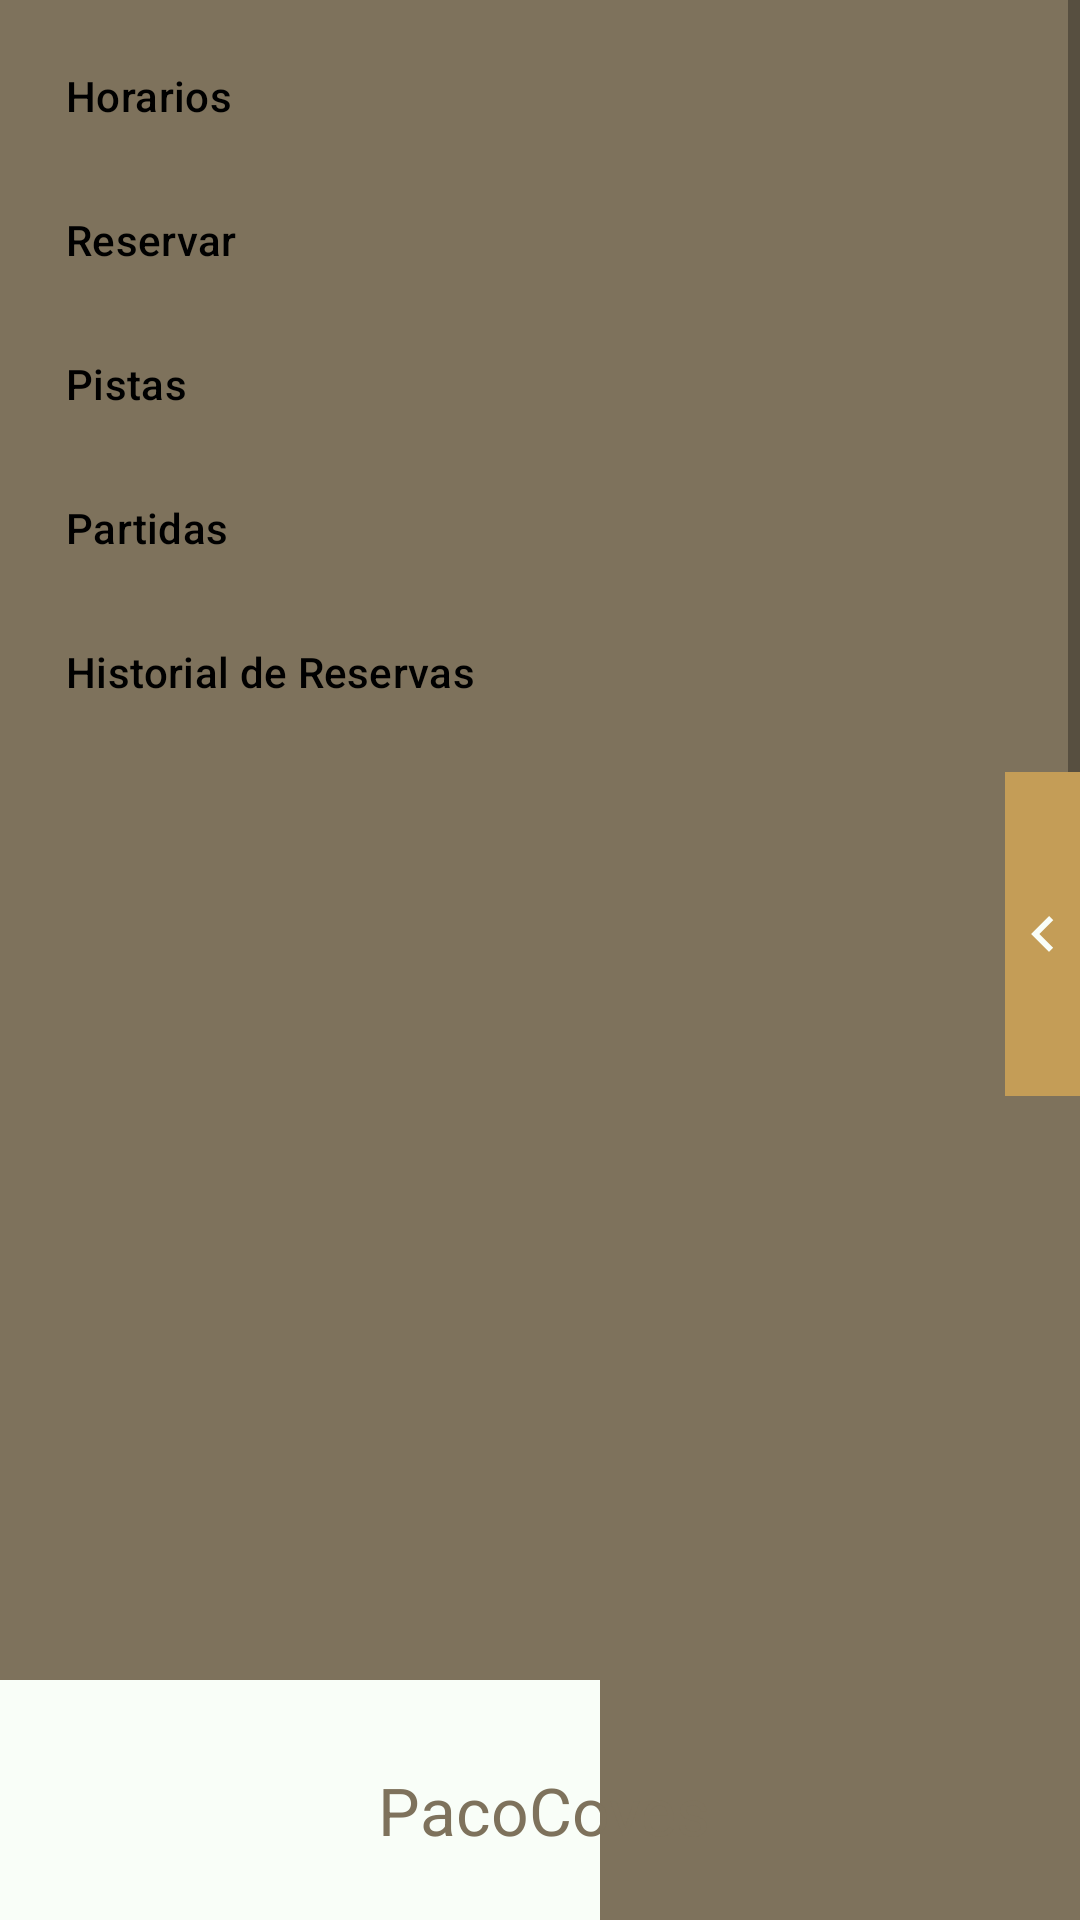

Icons on this 1080px×1920px Android screen, each with its box as (x1, y1, x2, y2):
Close menu: (1005, 772, 1080, 1096)
